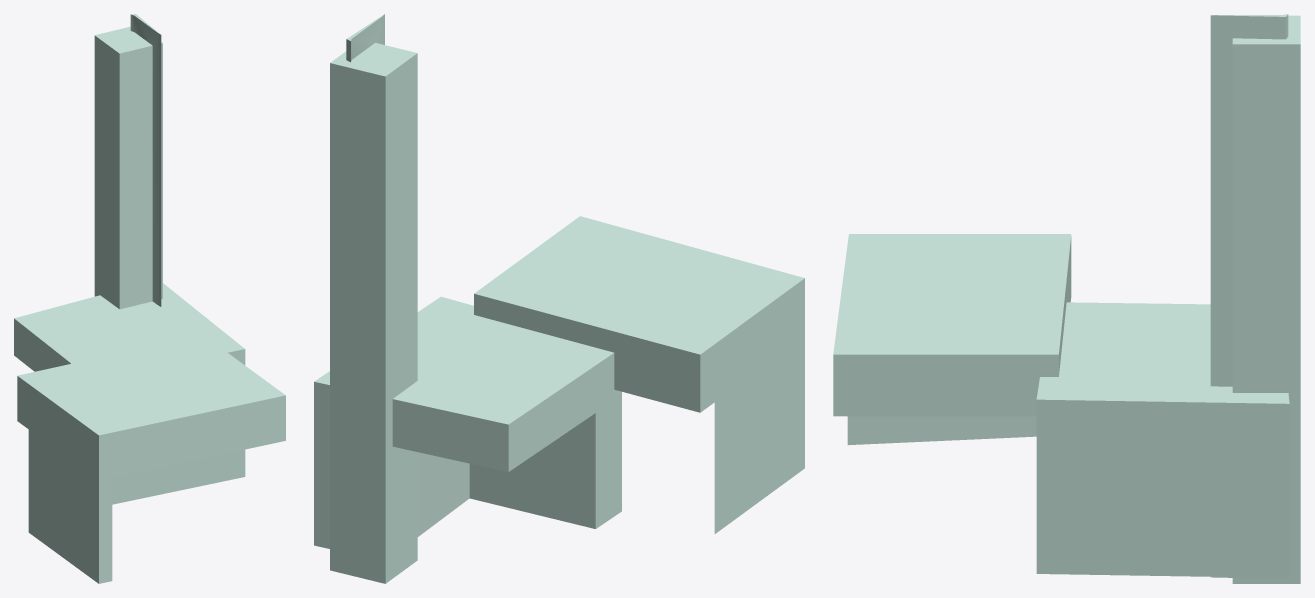
The picture shows the model from 3 angles, left to right: view 1: azimuth 30°, elevation 25°; view 2: azimuth 150°, elevation 25°; view 3: azimuth 270°, elevation 25°; orthographic projection. The views are drawn at different scales.
Visible parts, largest first — view 1: Renderer Node; view 2: Renderer Node; view 3: Renderer Node.
Part boxes in pixels (x1,y1,x2,y2): Renderer Node: (14, 14, 285, 583); Renderer Node: (314, 14, 804, 583); Renderer Node: (833, 14, 1300, 583).
Size of the model in its own units: 0.4389 by 0.7812 by 0.5889.
